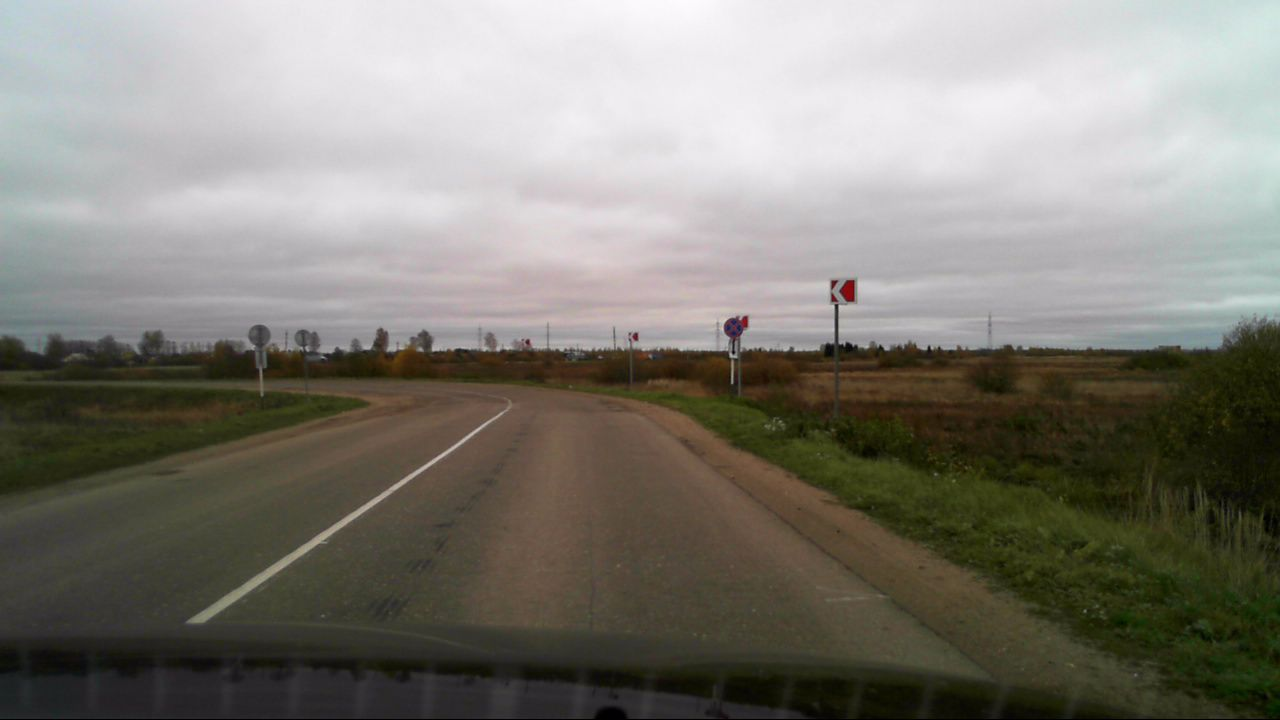No Parking: (723, 318, 742, 338)
